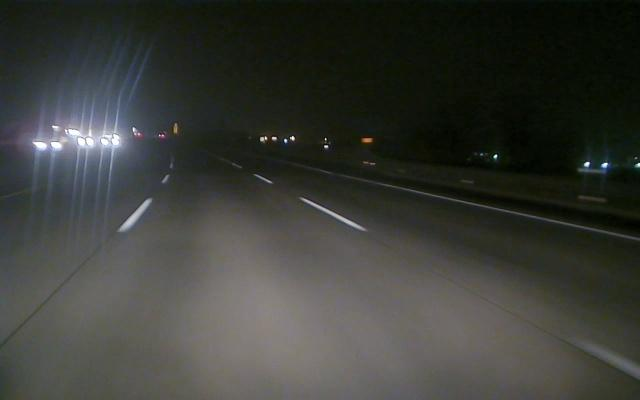lane: (322, 171, 637, 241), (260, 175, 367, 231), (114, 172, 170, 233)
